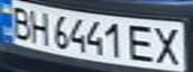1: (103, 19, 127, 58)
4: (84, 18, 106, 56), (66, 16, 87, 53)
6: (48, 13, 72, 51)
B: (6, 2, 36, 40)
E: (124, 21, 160, 63)
H: (24, 8, 54, 46)
X: (151, 24, 187, 66)
